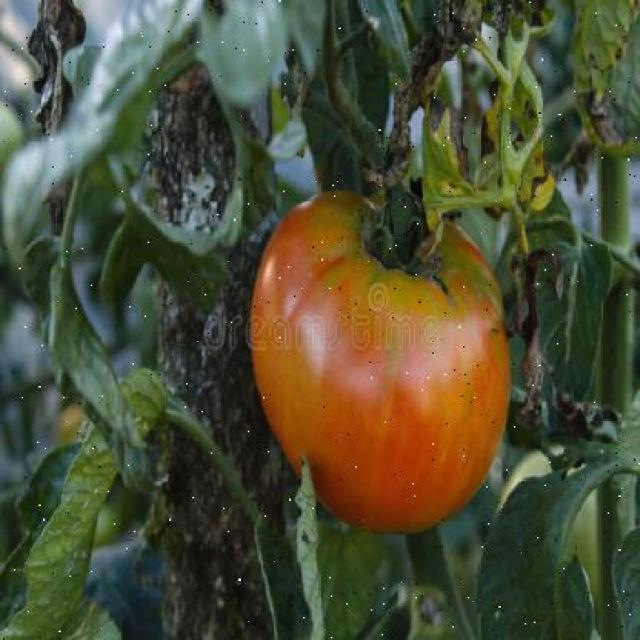tomato: (248, 191, 509, 533)
